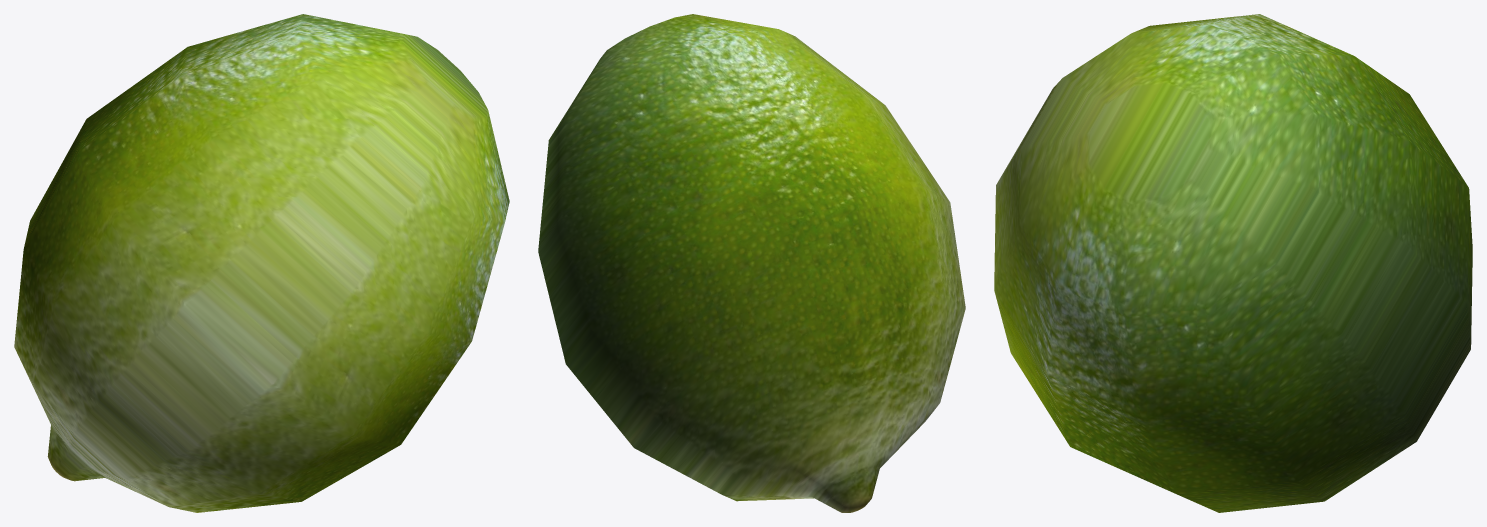
The model's file is lime.dae.
3 views of the same model, side by side, from view 1: azimuth 30°, elevation 25°; view 2: azimuth 150°, elevation 25°; view 3: azimuth 270°, elevation 25° (orthographic). The views are drawn at different scales.
Parts seen in each view (by area): view 1: group_1; view 2: group_1; view 3: group_1.
Part boxes in pixels (x1,y1,x2,y2): group_1: (14,14,509,512); group_1: (538,14,965,512); group_1: (994,14,1472,512).
Size of the model in its own units: 4.02 by 3.65 by 4.19.
1 material, 1 textured.
